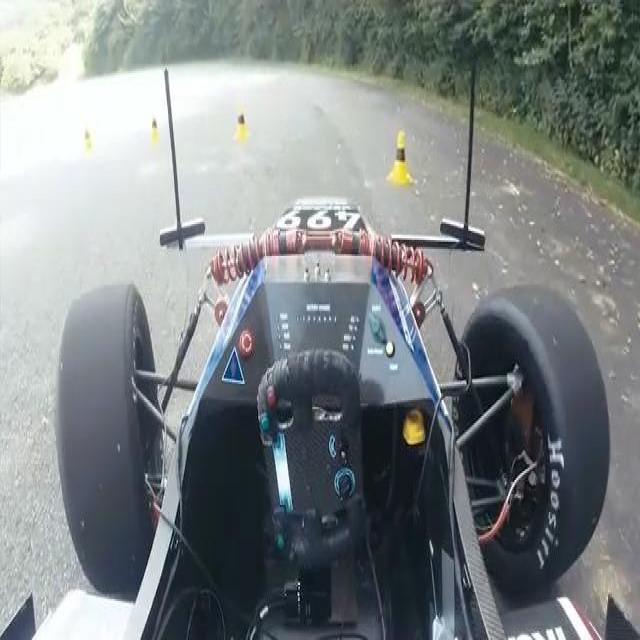yellow_cone: (386, 128, 413, 190), (233, 101, 252, 143), (148, 112, 163, 147)
